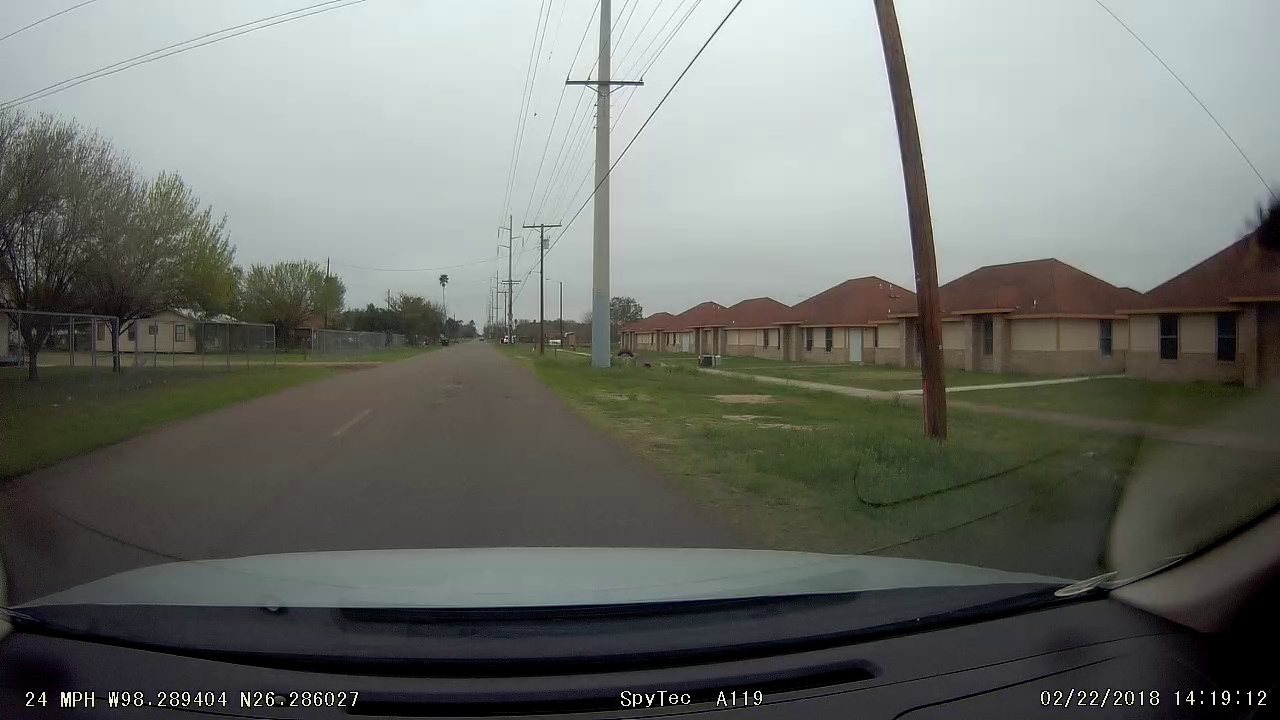pothole: (435, 369, 462, 411)
